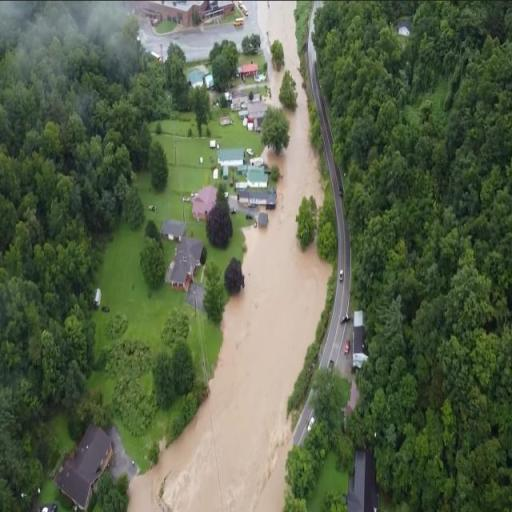flood: (128, 1, 332, 512), (270, 68, 282, 104)
house: (52, 422, 122, 512), (136, 0, 236, 30), (164, 238, 208, 294), (234, 161, 274, 214), (349, 442, 378, 512), (342, 314, 368, 372), (188, 181, 218, 226), (240, 97, 274, 132), (162, 217, 188, 244), (238, 56, 260, 82), (396, 16, 412, 40)
